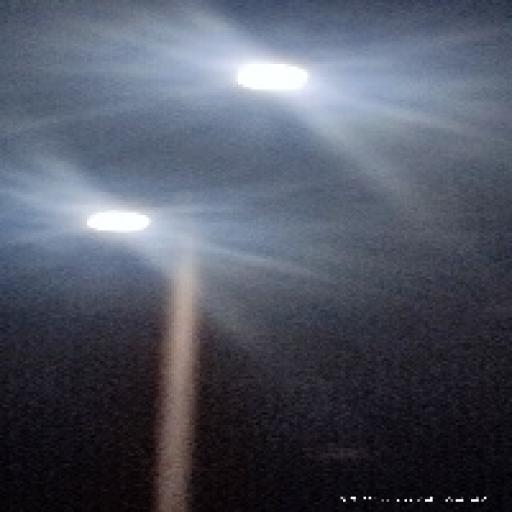Working: (218, 46, 324, 110), (71, 198, 164, 252)
